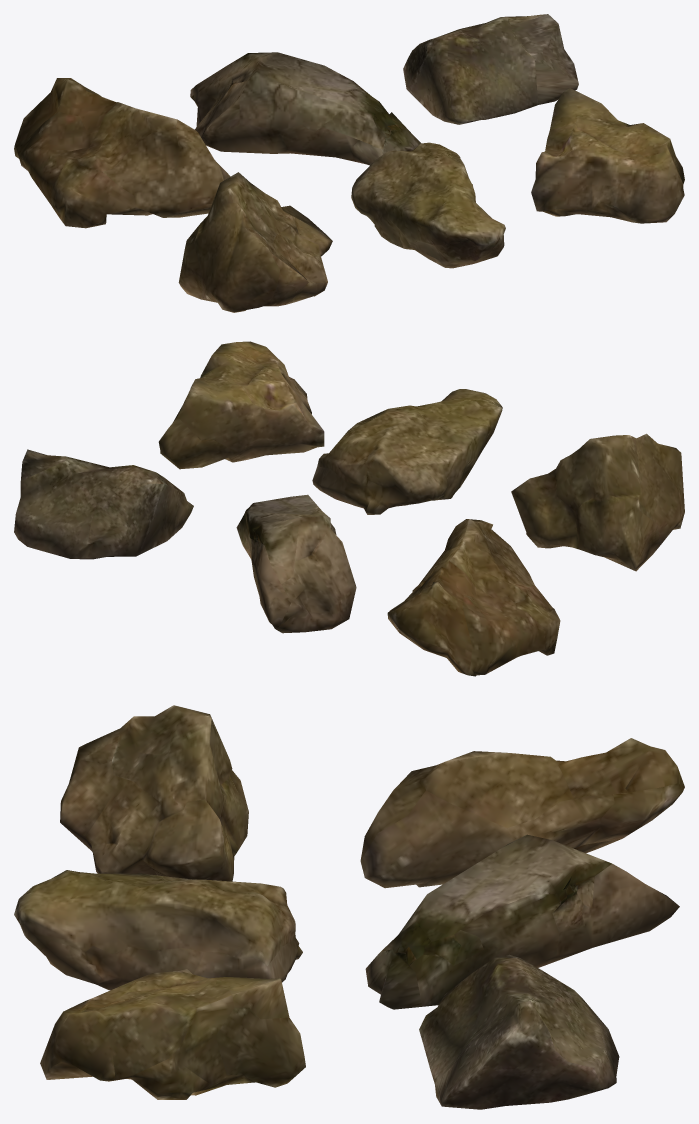
The model's file is rock_moss_set.glb.
3 views of the same model, one above another, from view 1: azimuth 30°, elevation 25°; view 2: azimuth 150°, elevation 25°; view 3: azimuth 270°, elevation 25° (orthographic). The views are drawn at different scales.
Visible parts, largest first — view 1: rock_moss_set_01_rock01; view 2: rock_moss_set_01_rock01; view 3: rock_moss_set_01_rock01.
Boxes of the visible parts, box(x1,y1,x2,y2) form: rock_moss_set_01_rock01: box(14, 14, 684, 312); rock_moss_set_01_rock01: box(14, 341, 684, 676); rock_moss_set_01_rock01: box(14, 705, 684, 1109).
Size of the model in its own units: 8 by 1.72 by 6.94.
Materials: 1 (1 with a texture image).
